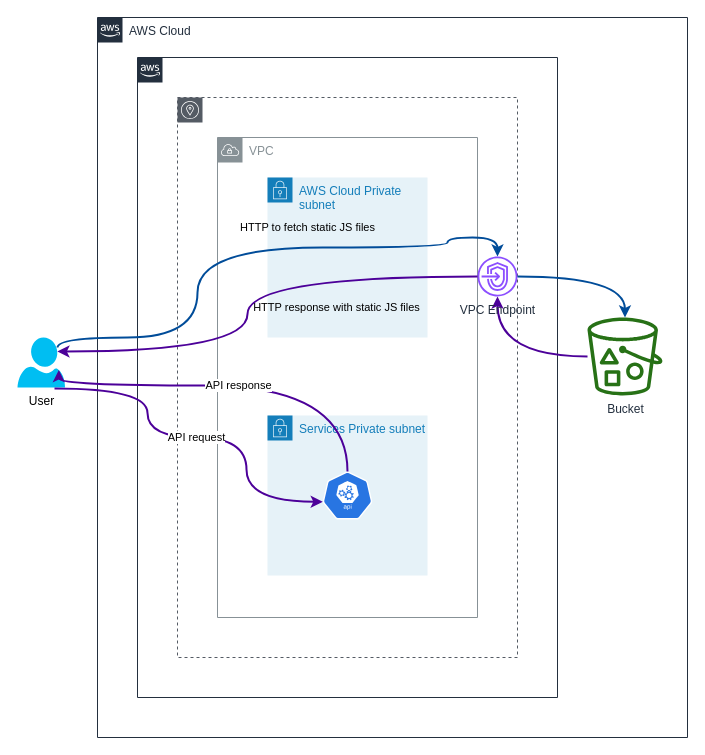
Some shapes in this 705 by 755 pixel diagram are drawn without their labels. Each missing label, with the box of its shape:
Availability zone: (176, 96, 518, 658)
AWS Region: (136, 56, 558, 698)
Backend API: (322, 470, 372, 520)
